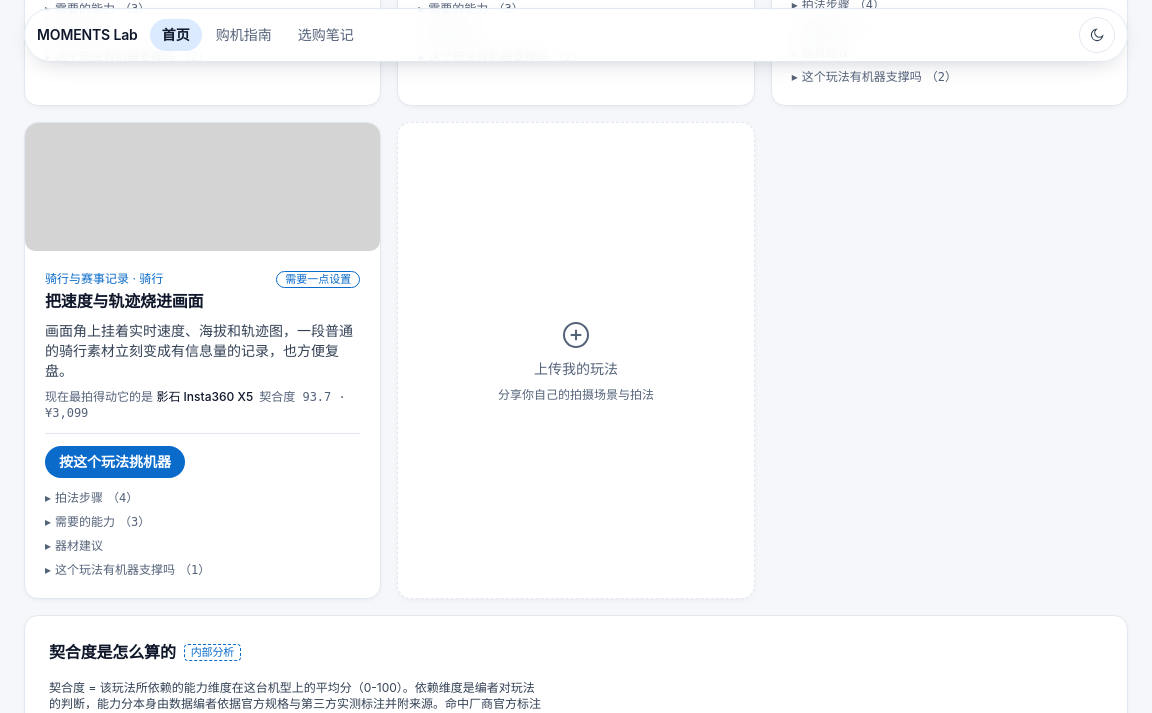
第一步：看能拍什么 › 可以上传自己的玩法，标注本地数据，并支持删除
The image size is (1152, 713).
(page scrolled)
Click the button "上传我的玩法 分享你自己的拍摄场景与拍法" at point(576, 360), box [397,122,755,599]
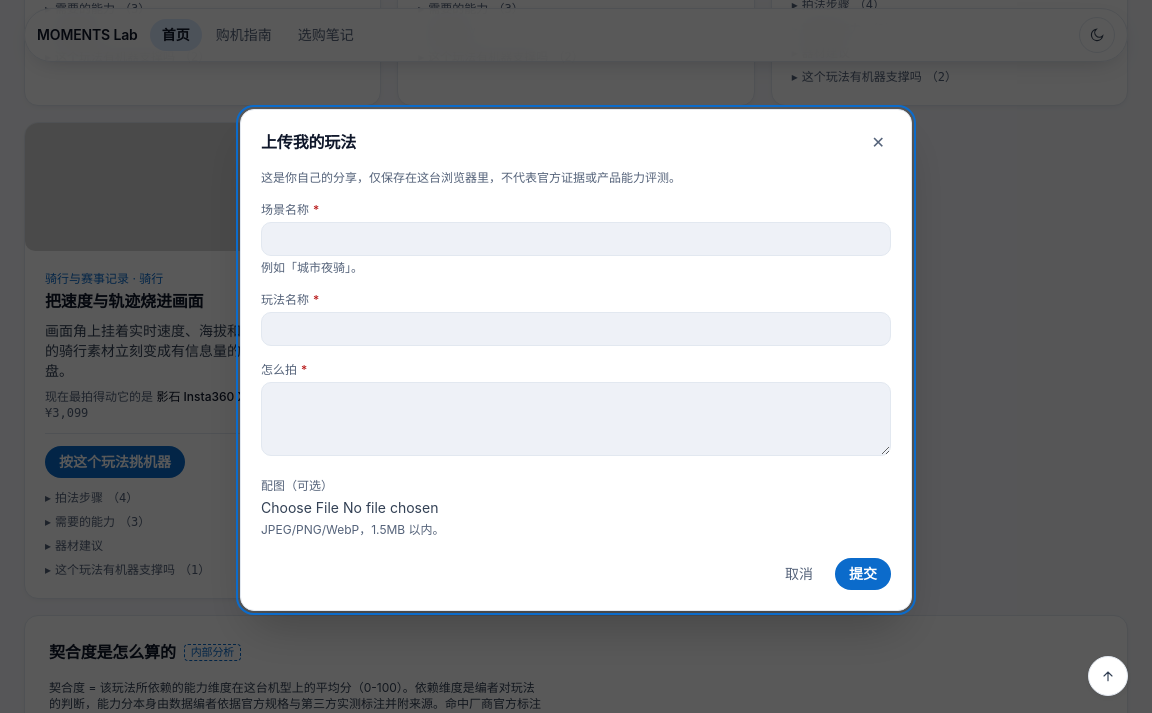
Type "露营夜拍" into the field labelled "场景名称*" at point(576, 239), box [261,222,891,256]
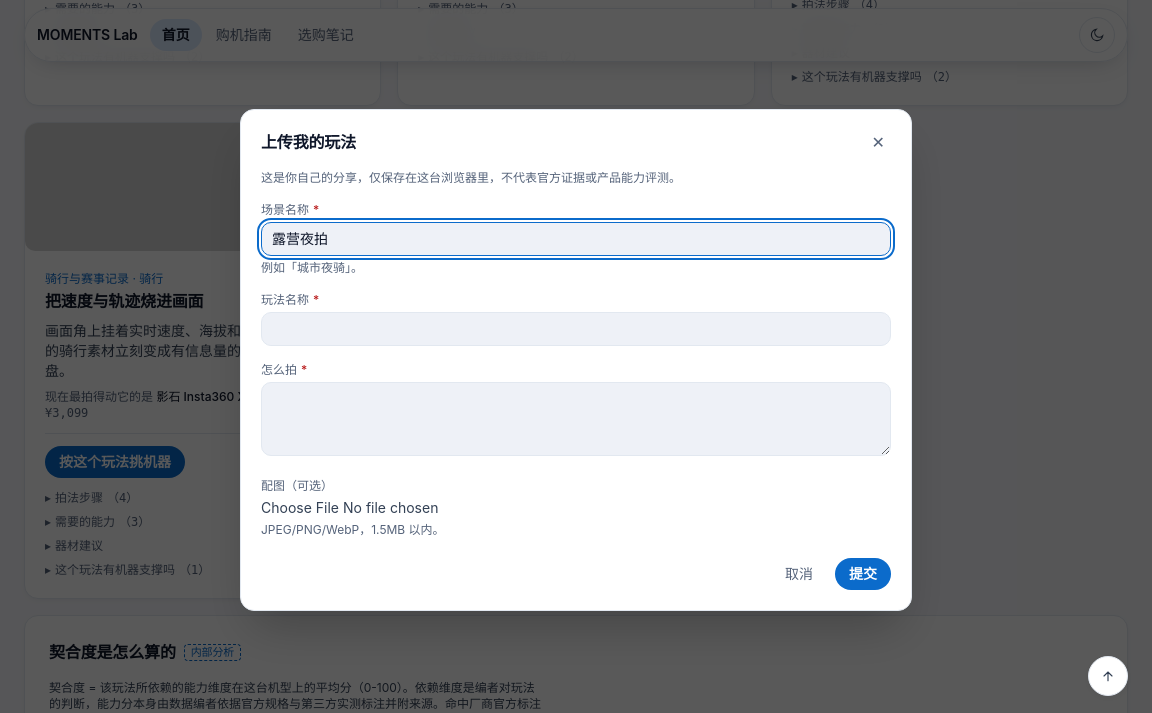
Type "帐篷延时" into the field labelled "玩法名称*" at point(576, 329), box [261,312,891,346]
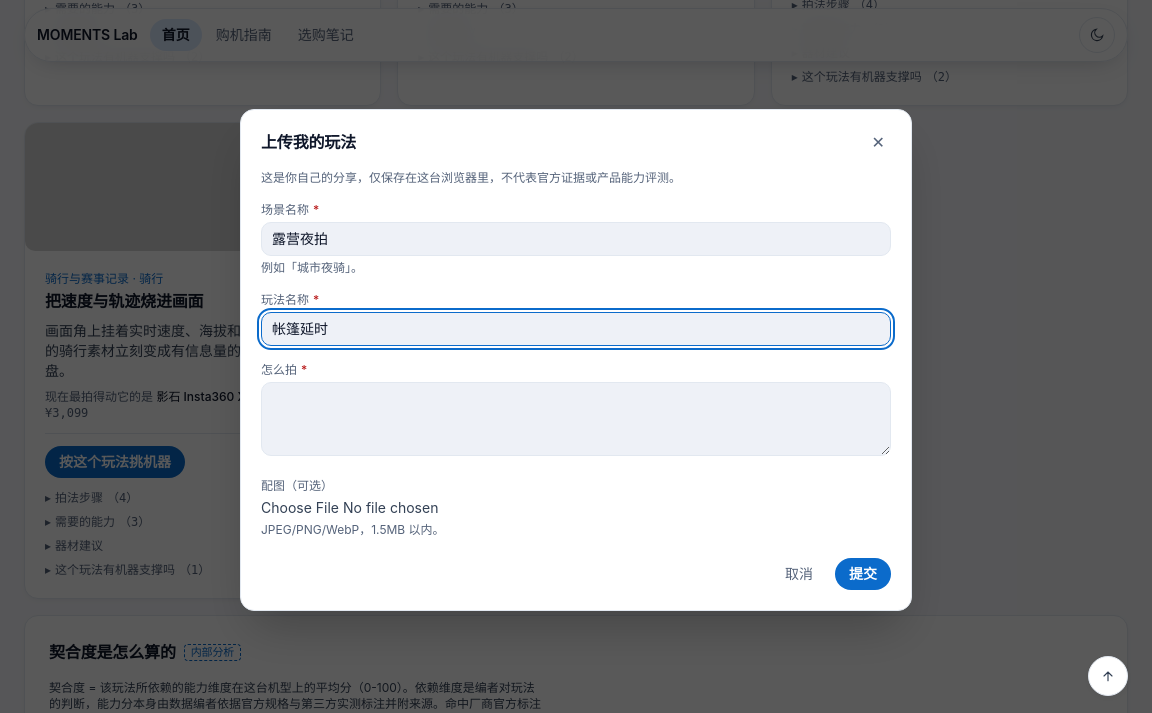
Type "架在帐篷顶拍星空延时。" into the text box labelled "怎么拍*" at point(576, 419), box [261,382,891,456]
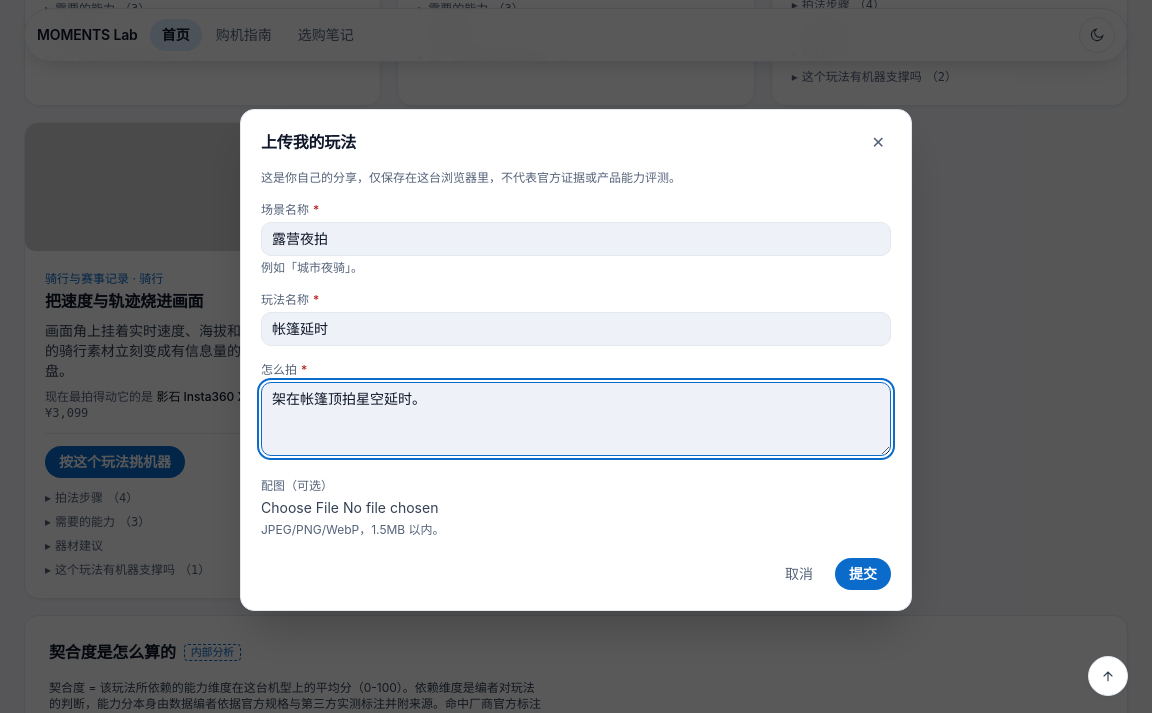
Click the button "提交" at point(863, 574), box [835,558,891,590]
(page scrolled)
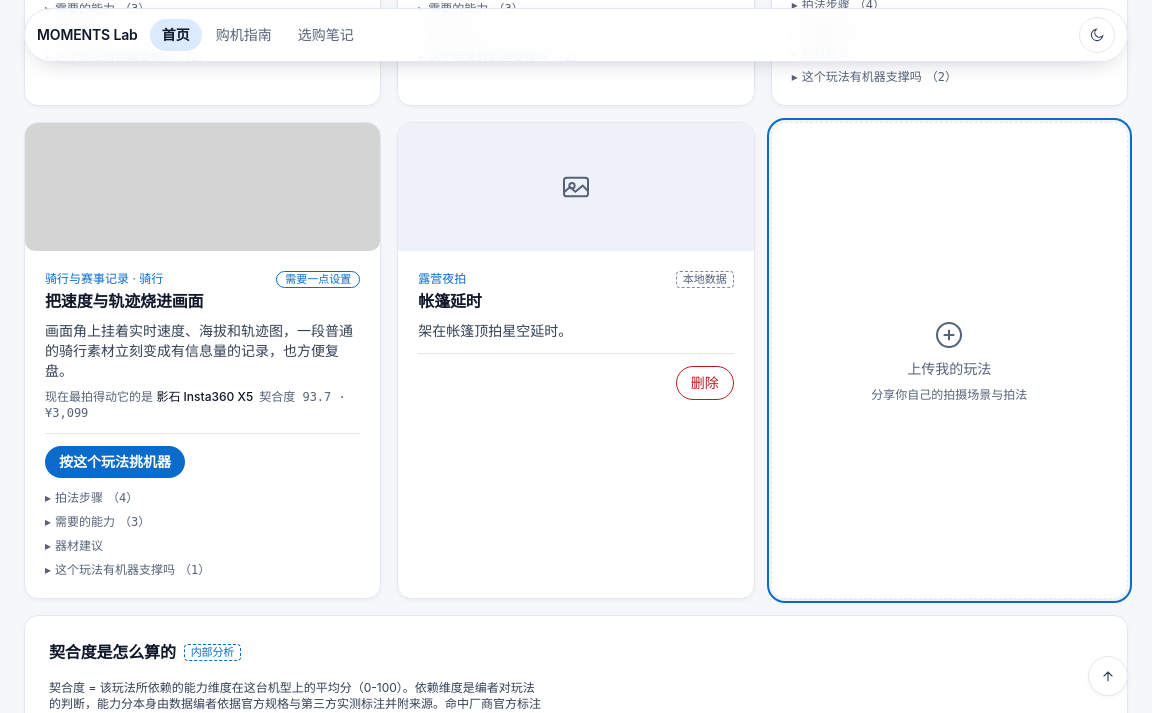
Result: the dialog is gone
Result: the heading "帐篷延时" is shown at [418,289,482,313]
Result: the text "本地数据" is shown at [676,271,734,288]
Click the button with aria-label "删除「帐篷延时」" at point(705, 383), box [676,366,734,400]
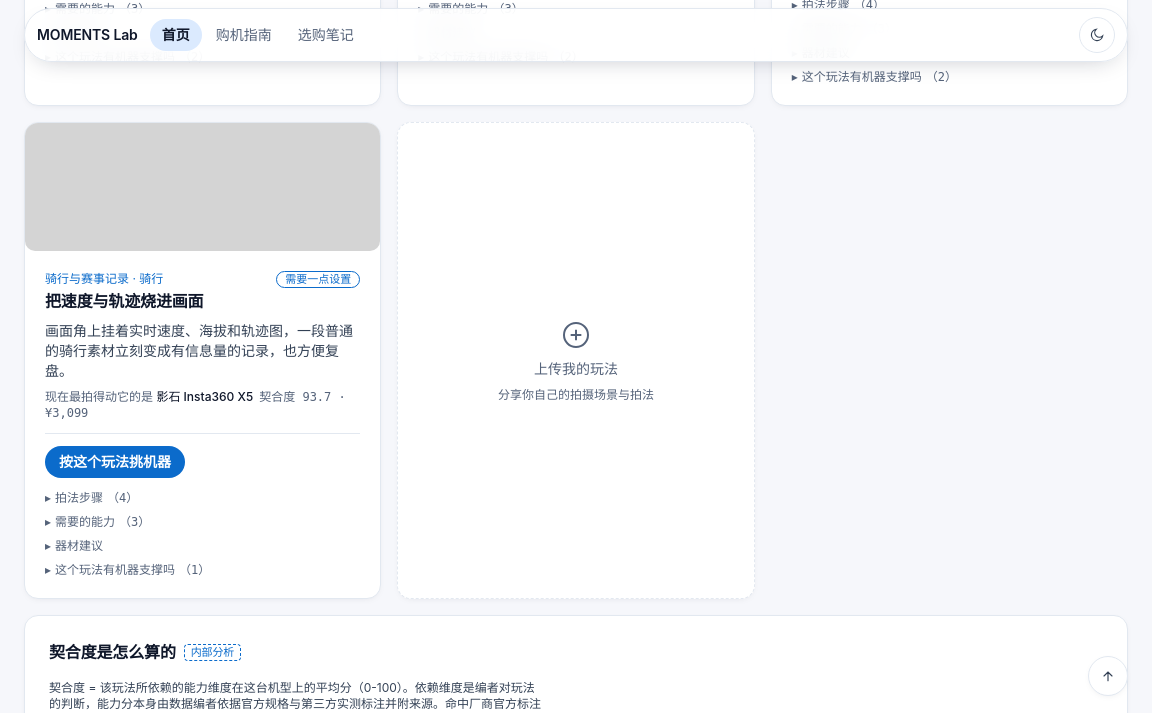
Result: the heading "帐篷延时" is gone
